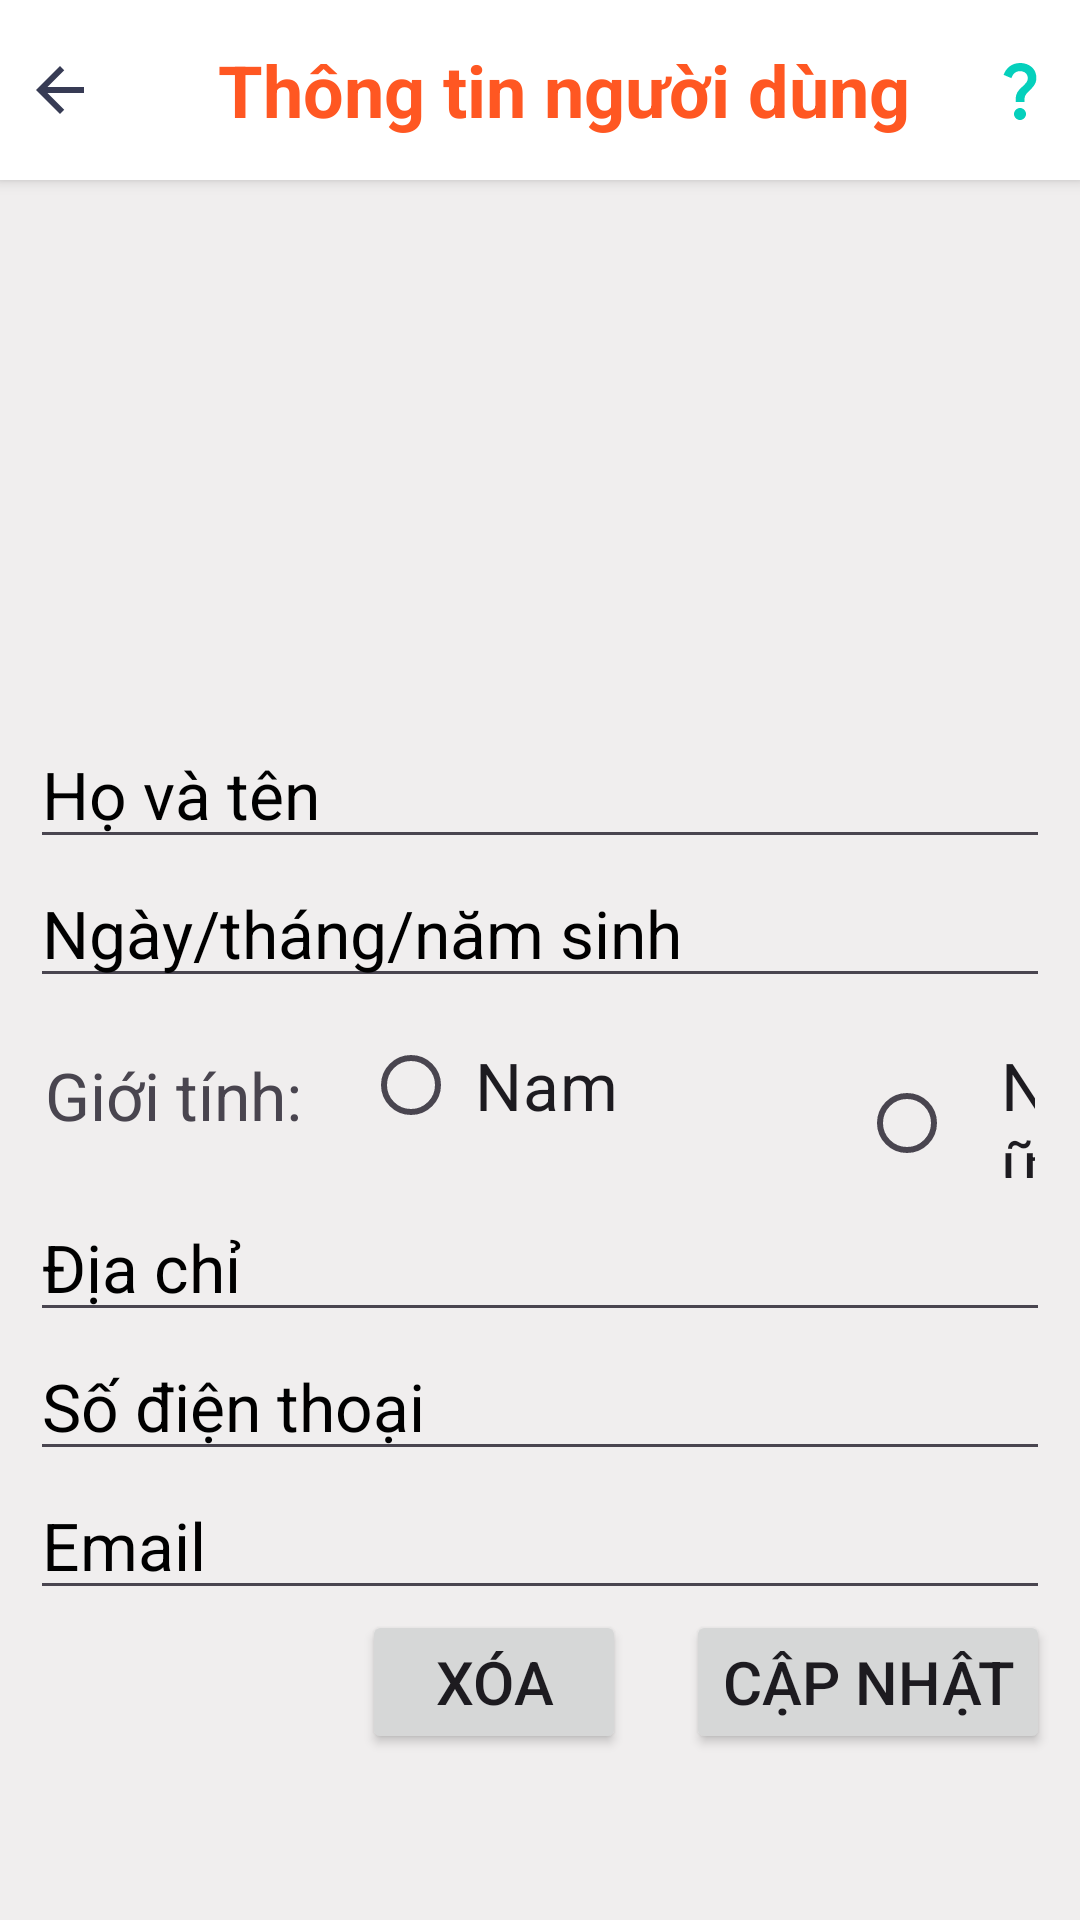

Icons on this 1080*1920 Android screen, each with the point to tap as point (x, y):
arrow back: point (60, 90)
question mark: point (1020, 91)
